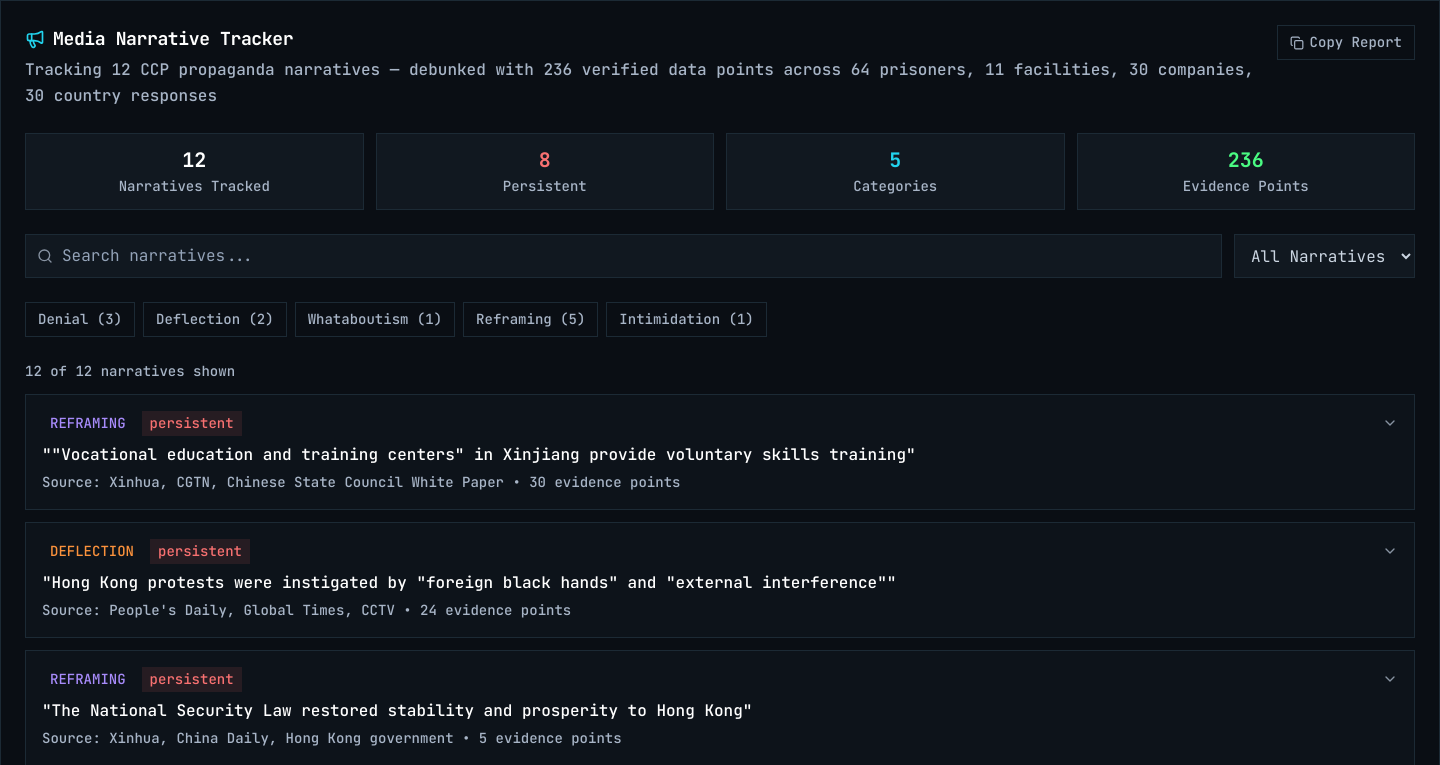
Test: MediaNarrativeTracker › collapses expanded card on second click
Step 1. Click the button named "\"Vocational education and training centers\" in Xinjiang prov" → click(720, 452), box [26,395,1414,509]
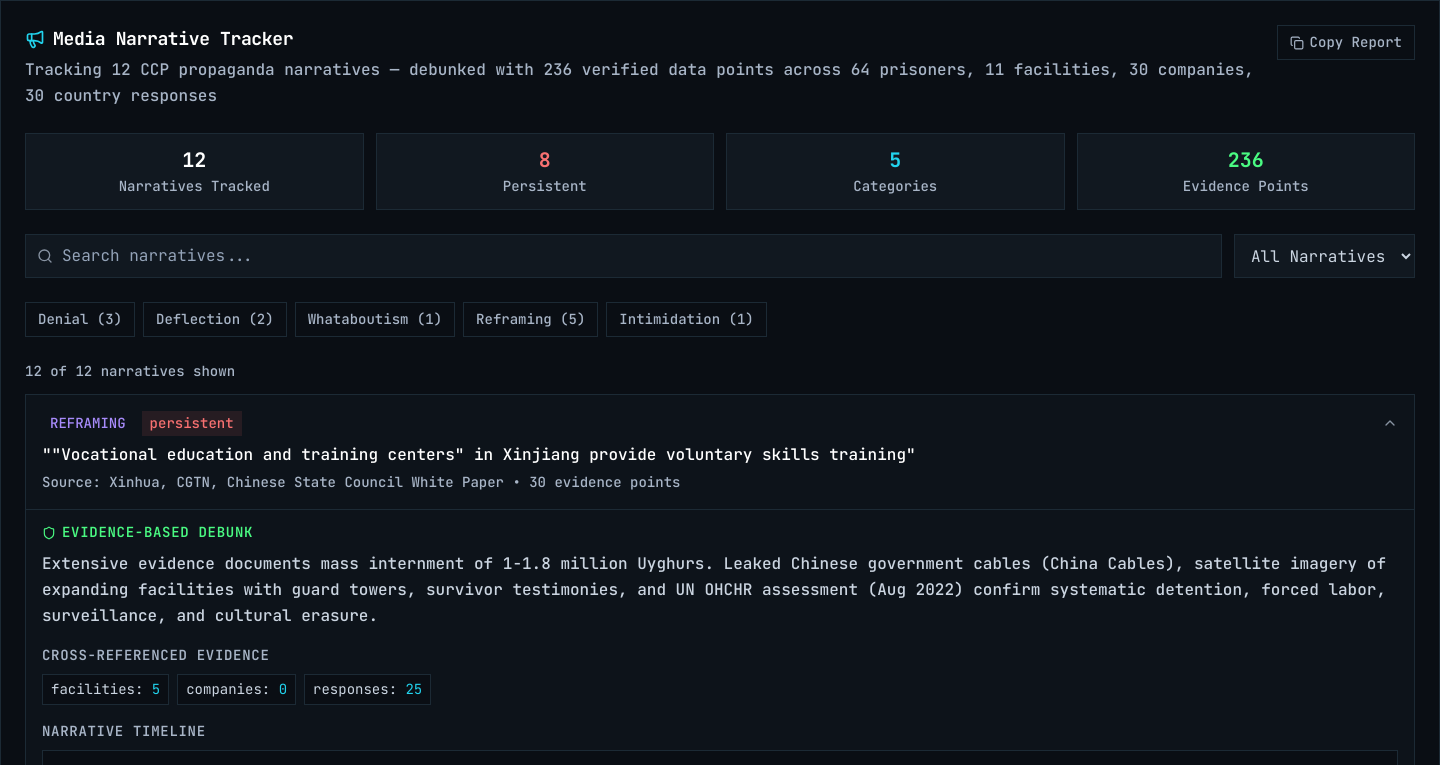
Now the heading "Evidence-Based Debunk" is shown, box [42,523,253,541]
Step 2. Click the button named "\"Vocational education and training centers\" in Xinjiang prov" → click(720, 452), box [26,395,1414,509]
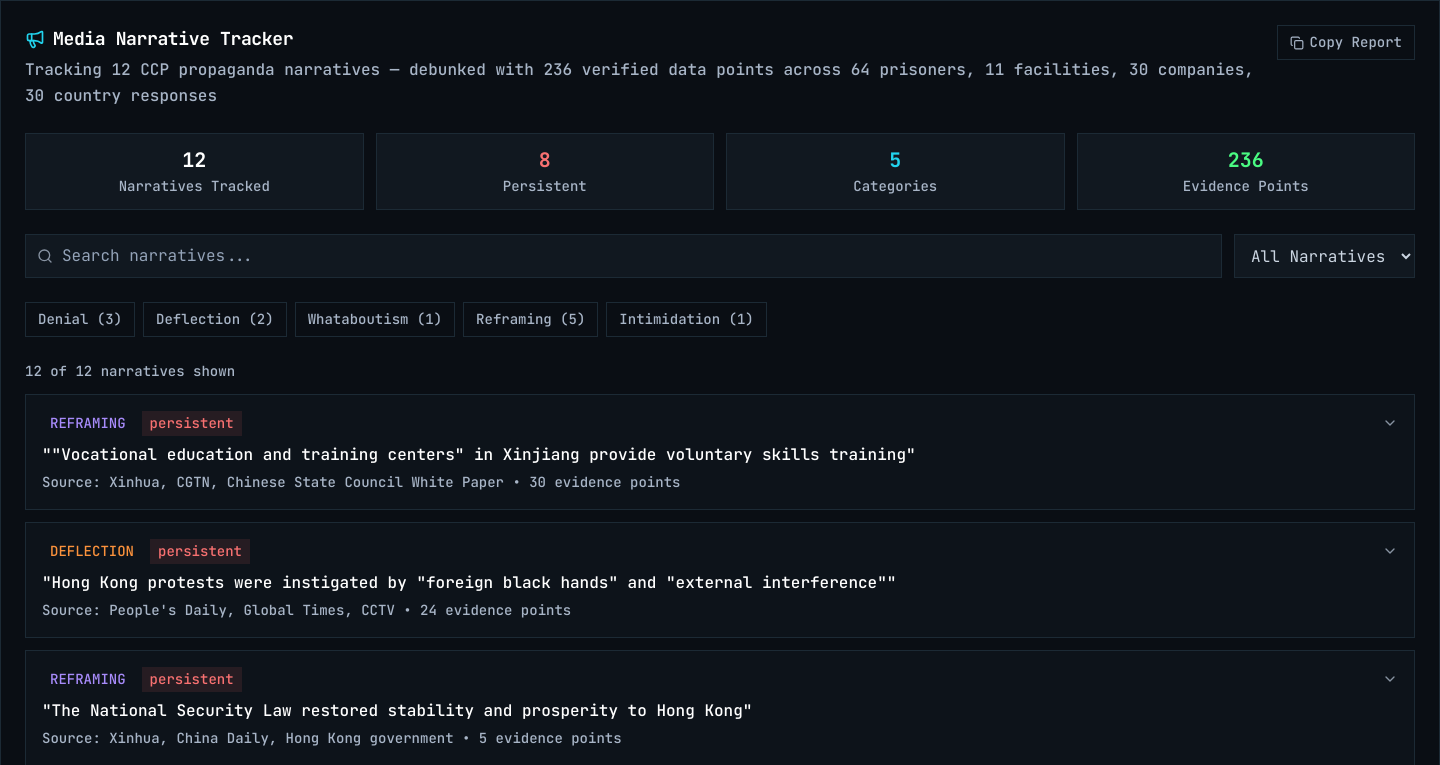
Now the heading "Evidence-Based Debunk" is gone
